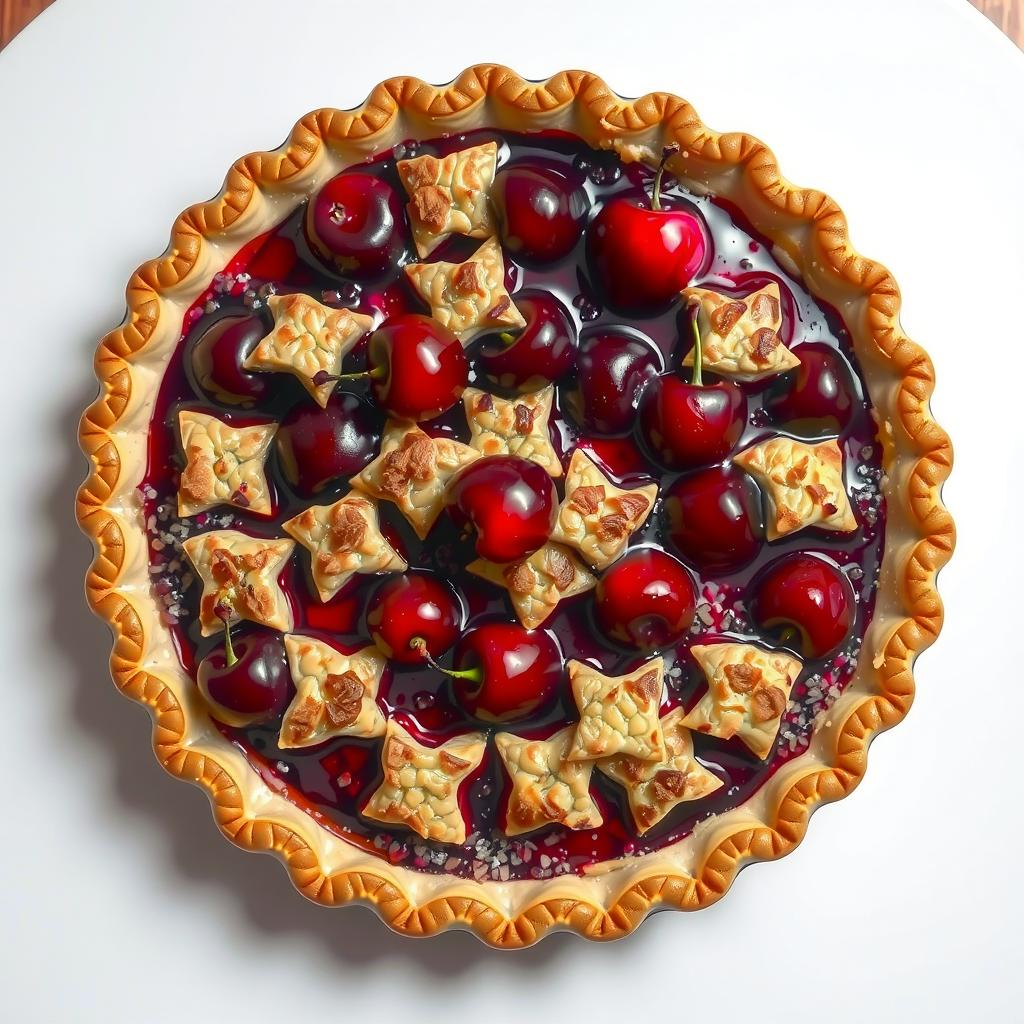pie: (74, 61, 970, 967)
